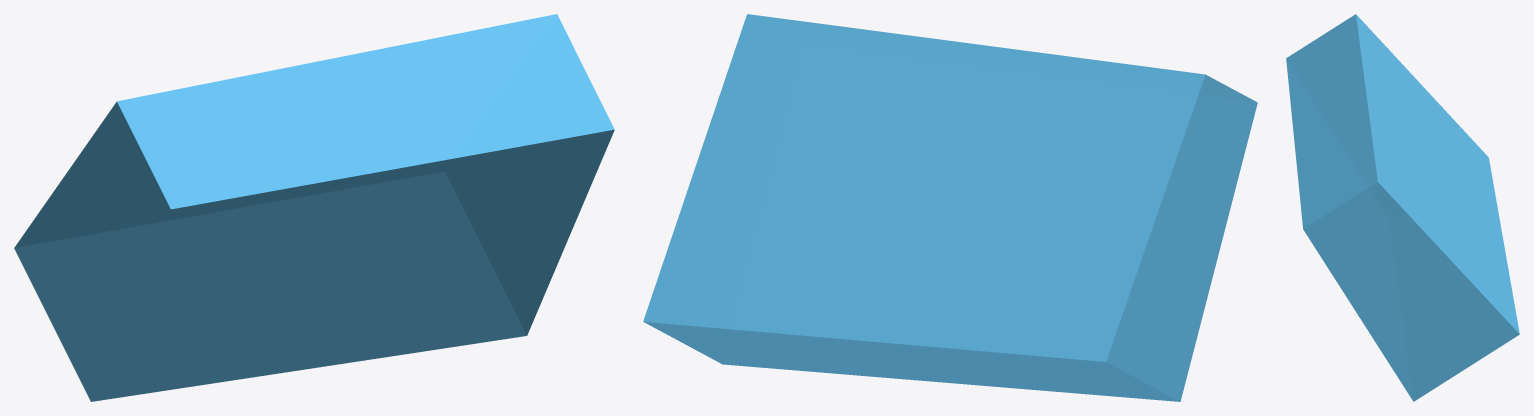
The model's file is Event_421364160_HErechit_61.fbx.
3 views of the same model, side by side, from view 1: azimuth 30°, elevation 25°; view 2: azimuth 150°, elevation 25°; view 3: azimuth 270°, elevation 25° (orthographic). The views are drawn at different scales.
Visible parts, largest first — view 1: Model; view 2: Model; view 3: Model.
Boxes of the visible parts, x1=… form: Model: x1=14, y1=14, x2=614, y2=401; Model: x1=643, y1=14, x2=1257, y2=401; Model: x1=1286, y1=14, x2=1519, y2=401.
Size of the model in its own units: 0.7713 by 0.6097 by 0.5284.
